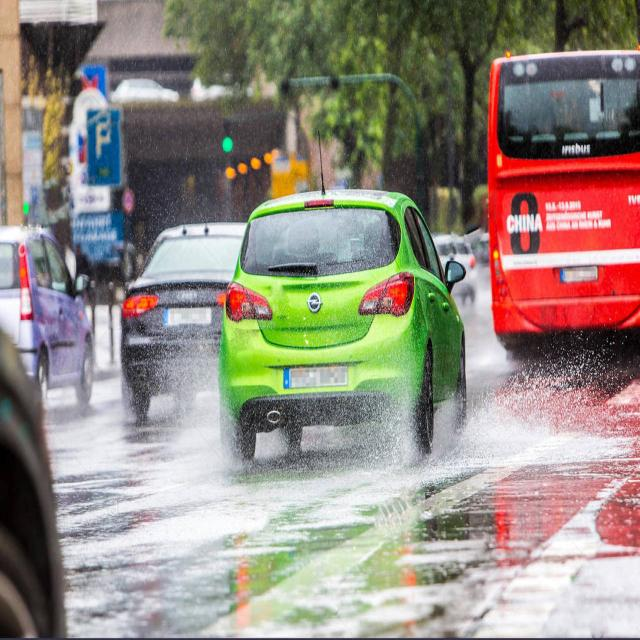car: (220, 193, 466, 468), (116, 224, 242, 426), (1, 223, 97, 410), (434, 238, 480, 300)
truck: (484, 49, 640, 345)
